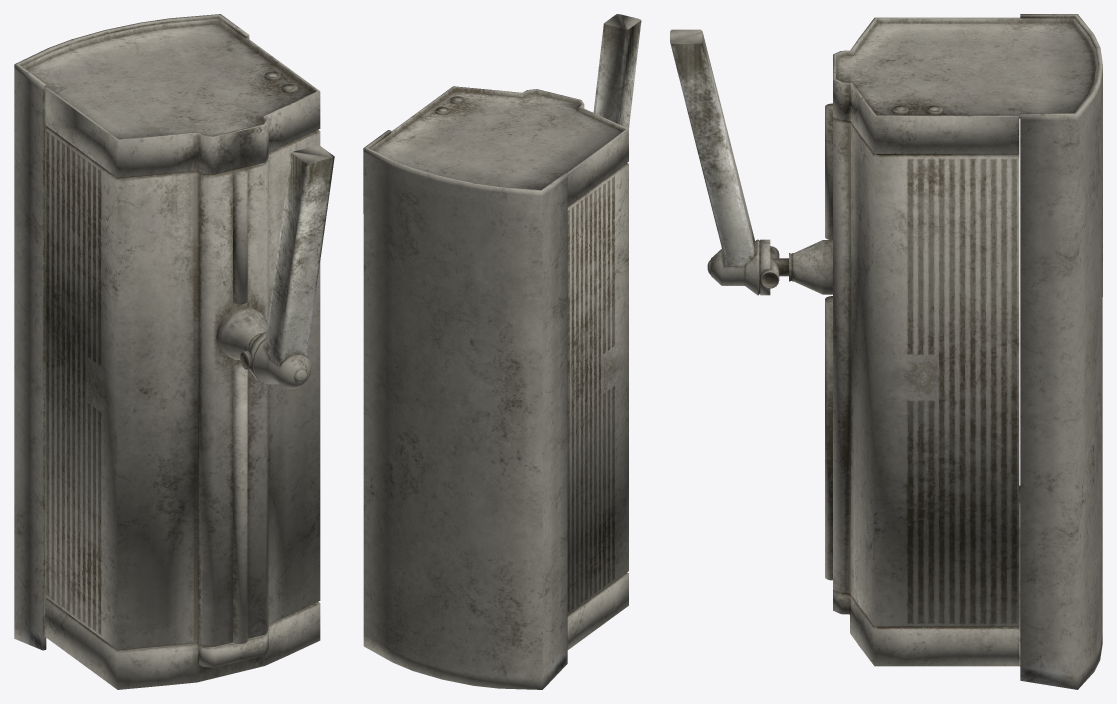
Rendered from camera.fbx.
3 views of the same model, side by side, from view 1: azimuth 30°, elevation 25°; view 2: azimuth 150°, elevation 25°; view 3: azimuth 270°, elevation 25° (orthographic). The views are drawn at different scales.
Visible parts, largest first — view 1: defaultMaterial.001; view 2: defaultMaterial.001; view 3: defaultMaterial.001.
Boxes of the visible parts, bbox=[...] form: defaultMaterial.001: bbox=[14, 14, 334, 689]; defaultMaterial.001: bbox=[363, 14, 641, 689]; defaultMaterial.001: bbox=[670, 14, 1102, 689].
Bounding box in the file's own units: 66.3 × 186 × 120.
Materials: 1 (1 with a texture image).
